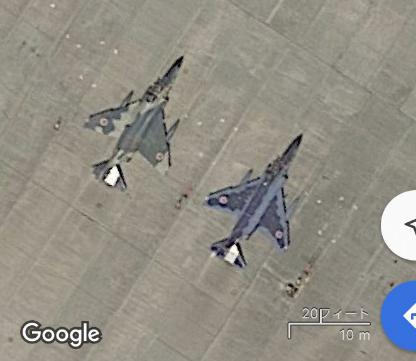F35: (81, 53, 184, 190), (201, 132, 302, 269)
